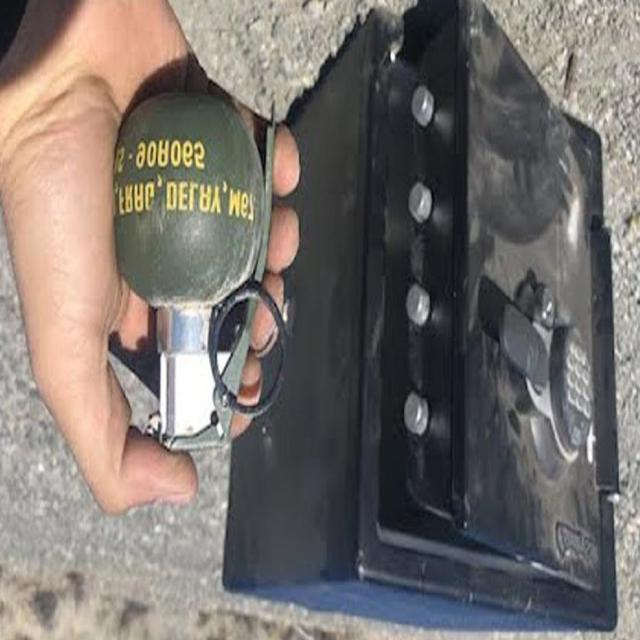grenade: (108, 83, 278, 456)
